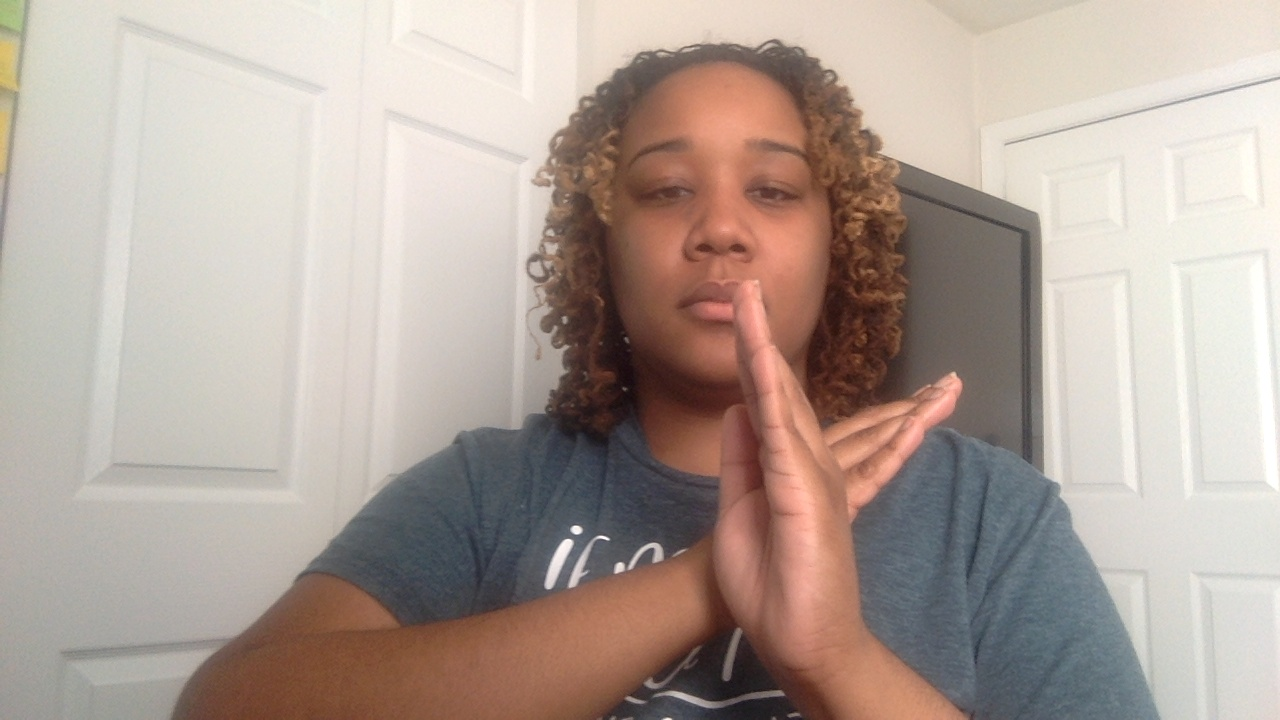quiet: (709, 280, 979, 720)
